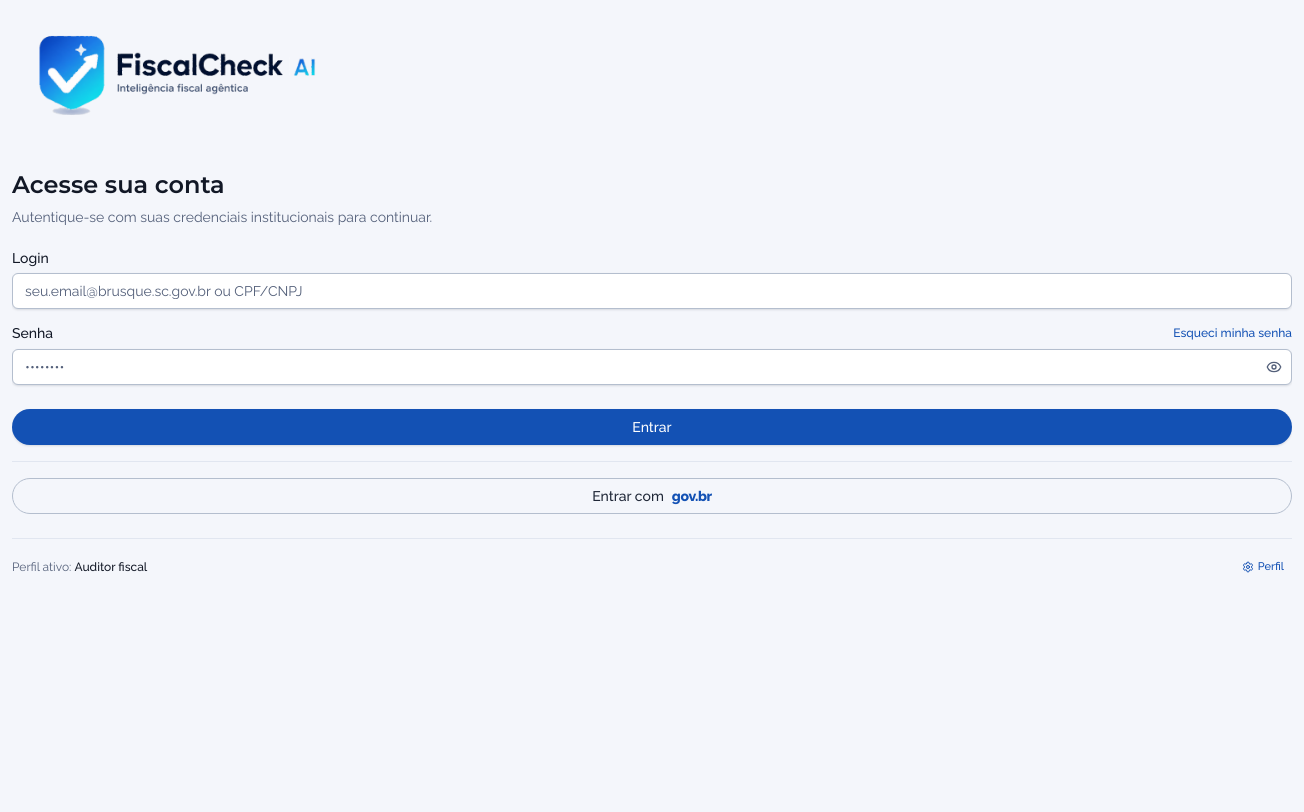
Scenario: LoginForm — fluxo mock › valida senha curta com mensagem em pt-BR
The width and height of the screenshot is (1304, 812).
Type "auditor@brusque.sc.gov.br" into the field with placeholder "seu.email@brusque.sc.gov.br ou CPF/CNPJ". click: x=652, y=291
box: [12,273,1292,309]
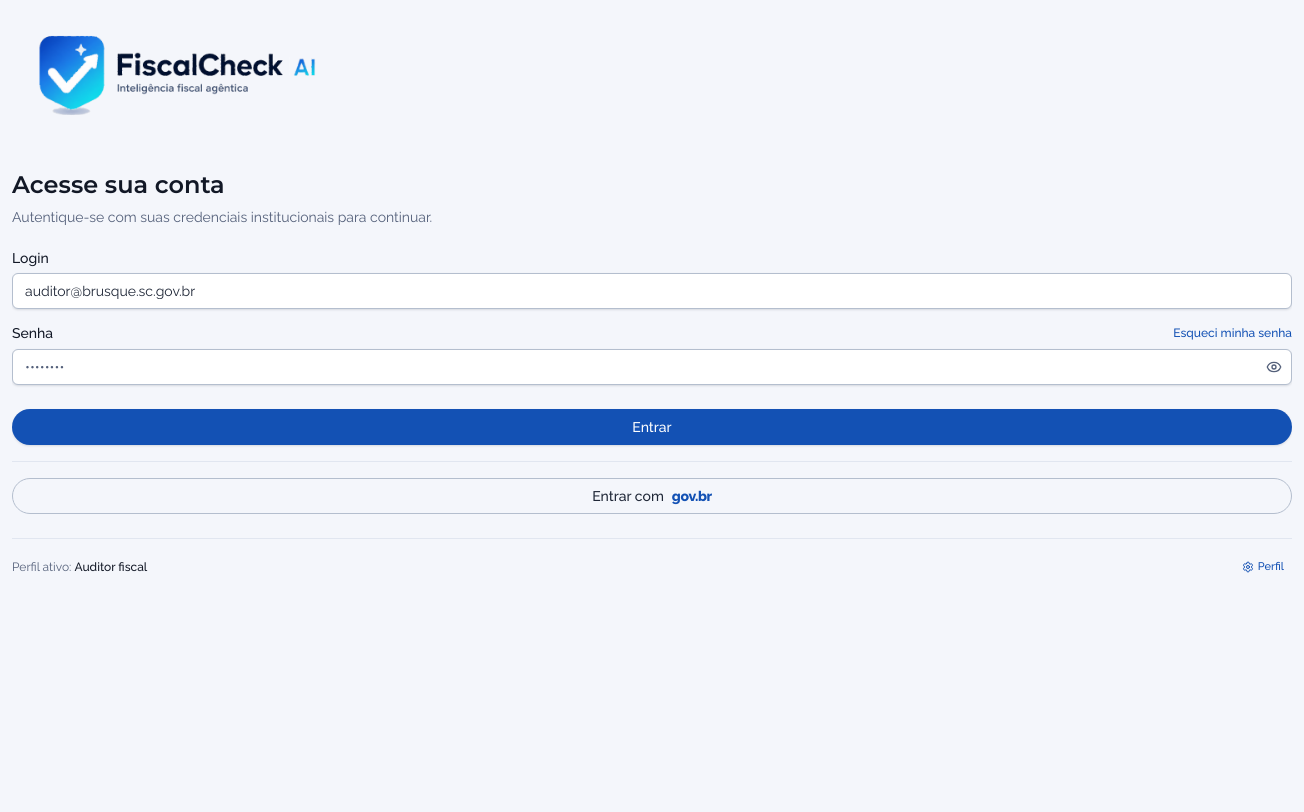
Type "12" into the password field with placeholder "••••••••". click: x=652, y=367
box: [12,349,1292,385]
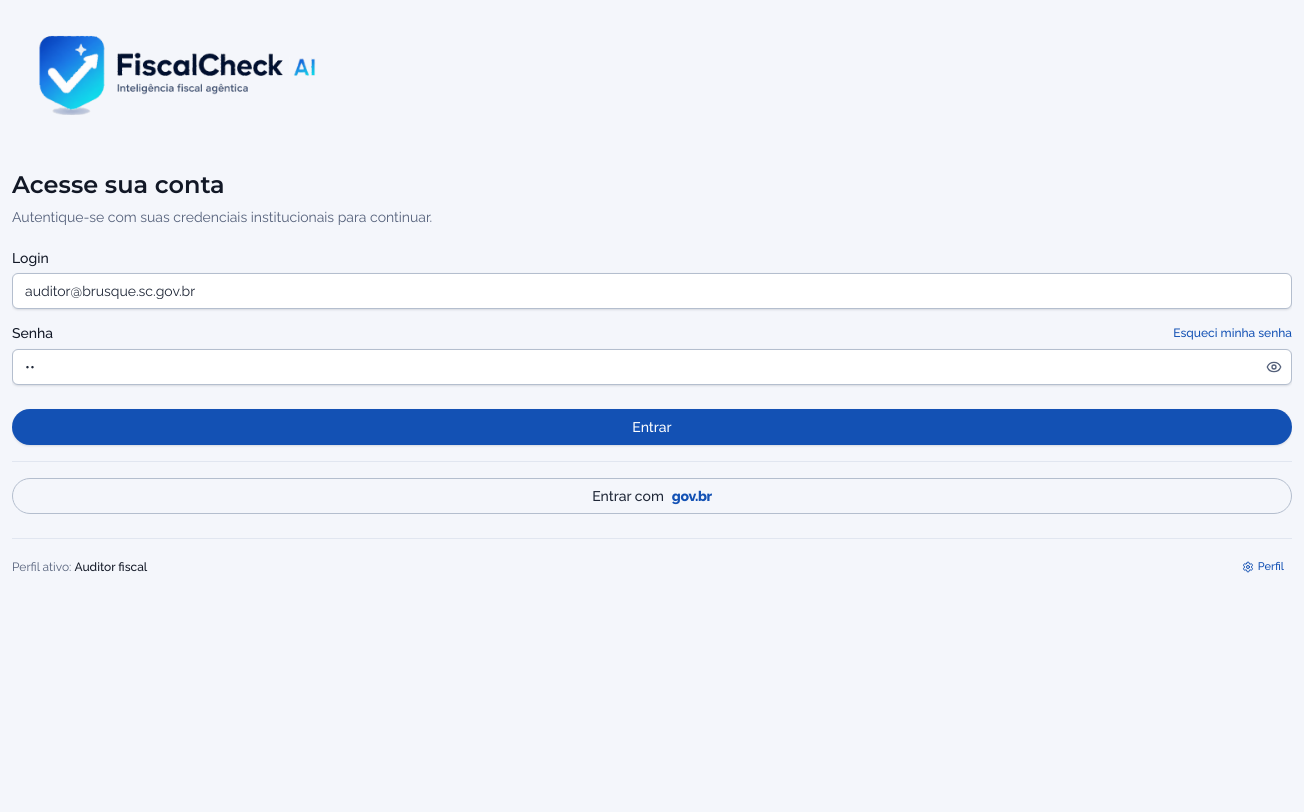
Click the button "Entrar". click: x=652, y=427
box: [12,409,1292,445]
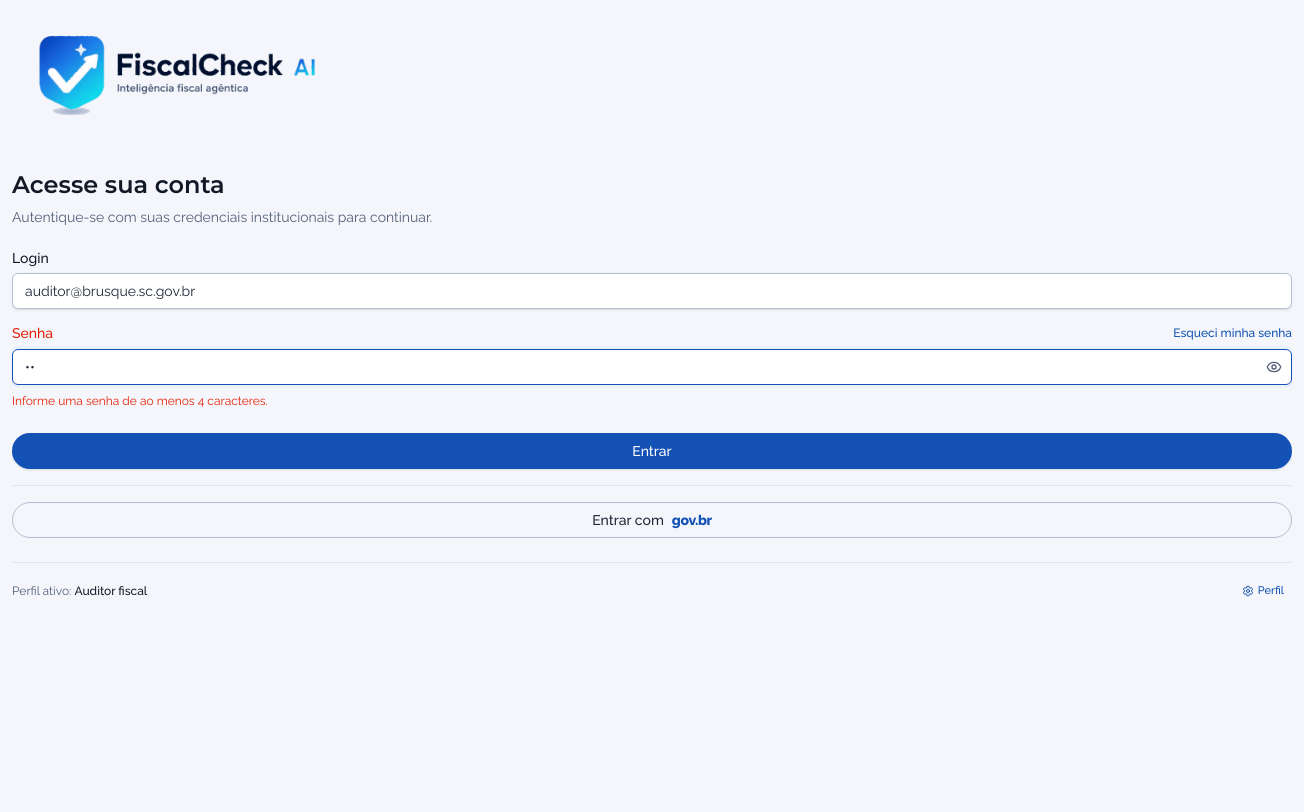
expect the text "Informe uma senha de ao menos 4 caracteres." is shown: met, box [12,394,268,408]
